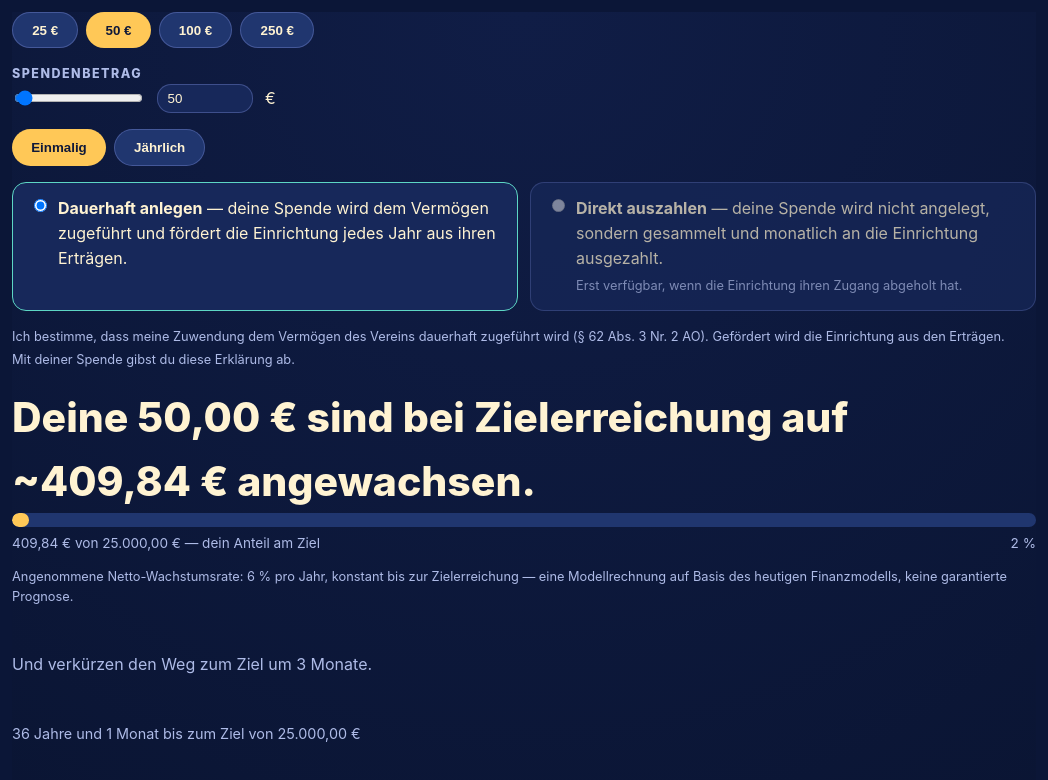
Scenario: SpendenRechner › Betrag < 5 € zeigt neutralen Hinweis statt absurder 0-€-Story (F5) › zeigt bei geleertem Betragsfeld einen Hinweis statt Zukunftswert-Hero und Wirkungs-Zeile
Clear the number field named "Spendenbetrag". click: (205, 98)
box: [157,84,253,113]
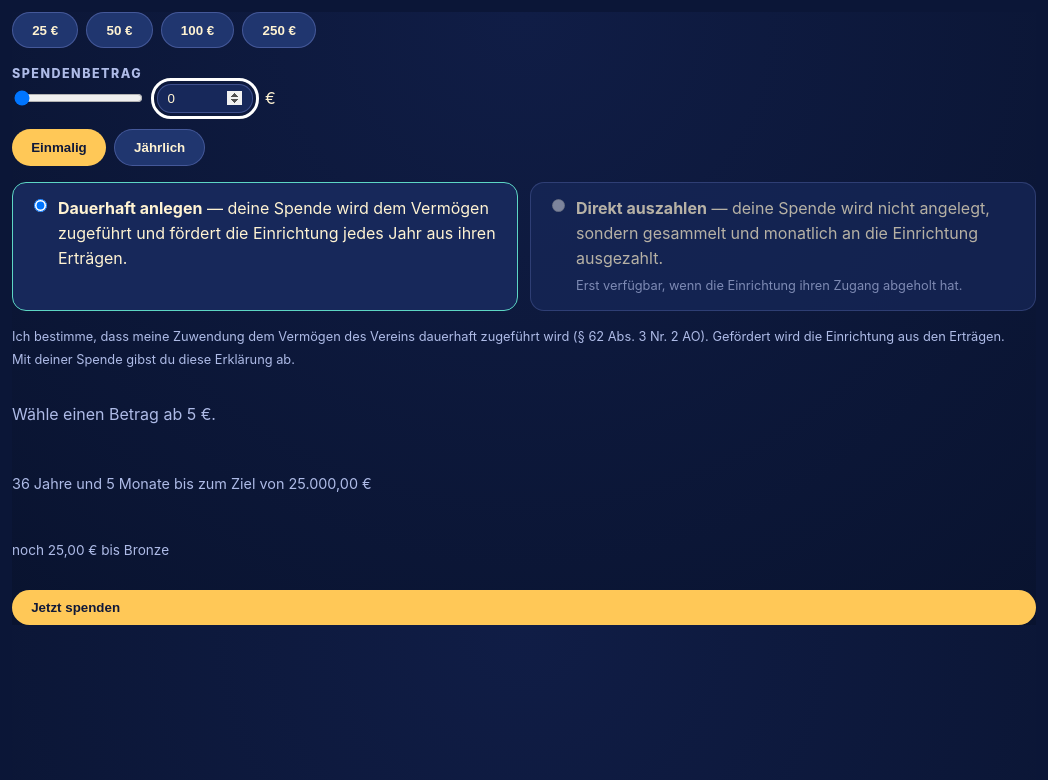
Now the text with test id "betrag-hinweis" reads "Wähle einen Betrag ab 5 €.", box [12,404,216,424]
Now the text "angewachsen" is gone
Now the element with test id "zukunftswert-hero" is gone
